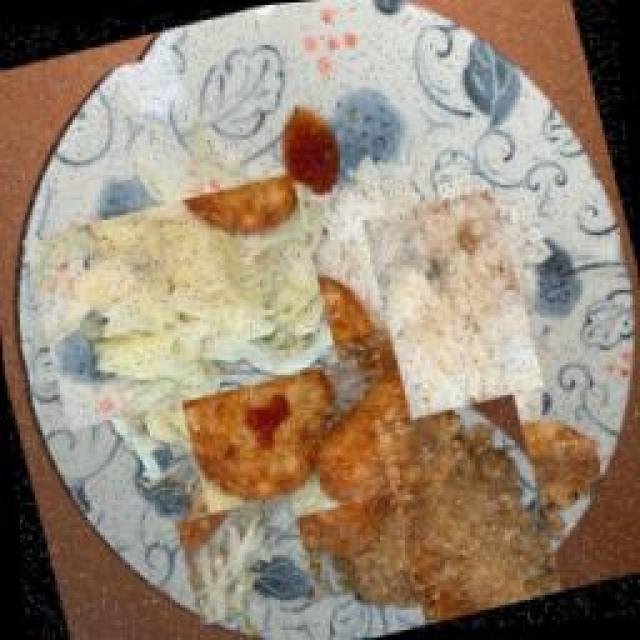Wet Waste: (32, 152, 328, 448), (190, 295, 452, 557), (355, 400, 587, 632), (357, 182, 545, 422), (175, 488, 315, 628)
